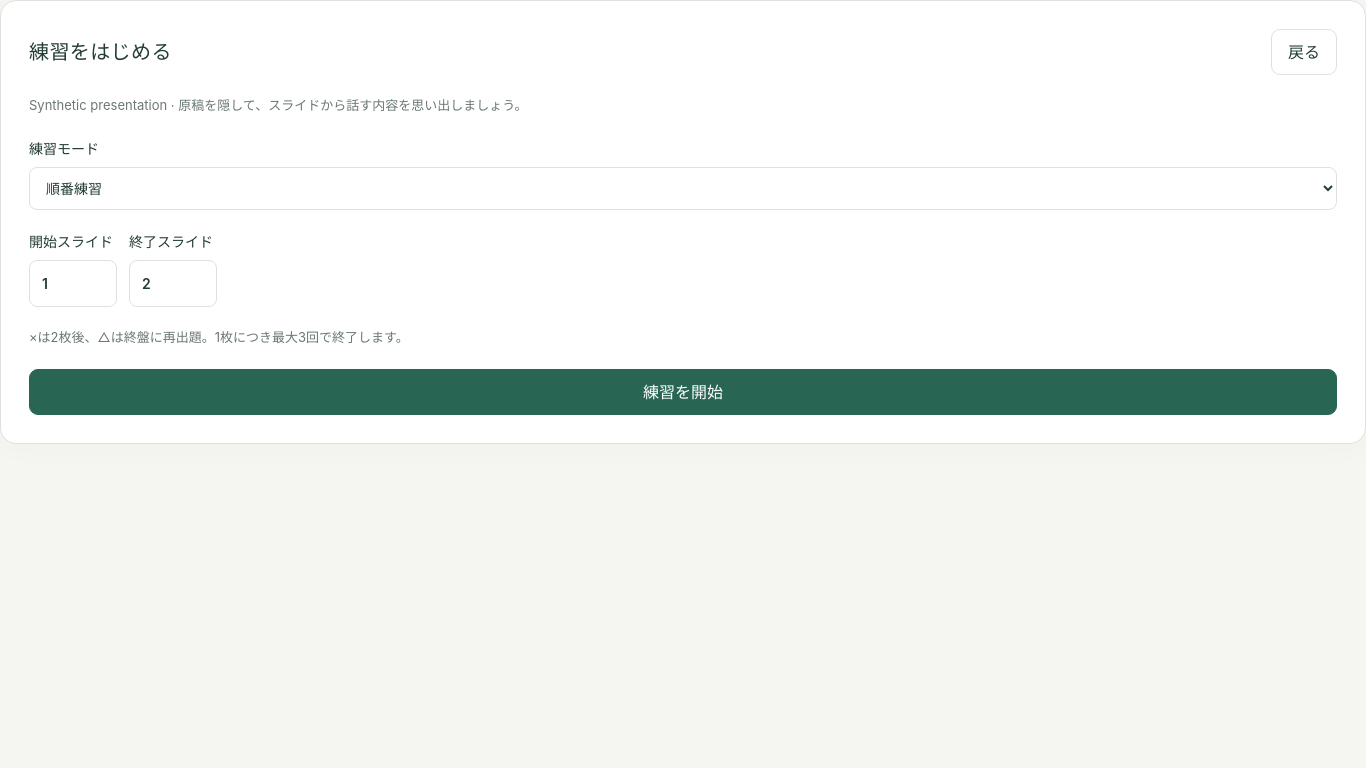
Test: practice screen › moves to the next or previous slide without a confirmation dialog while saving ungraded attempts
Click the button "練習を開始" at (683, 392), box [29, 368, 1337, 415]
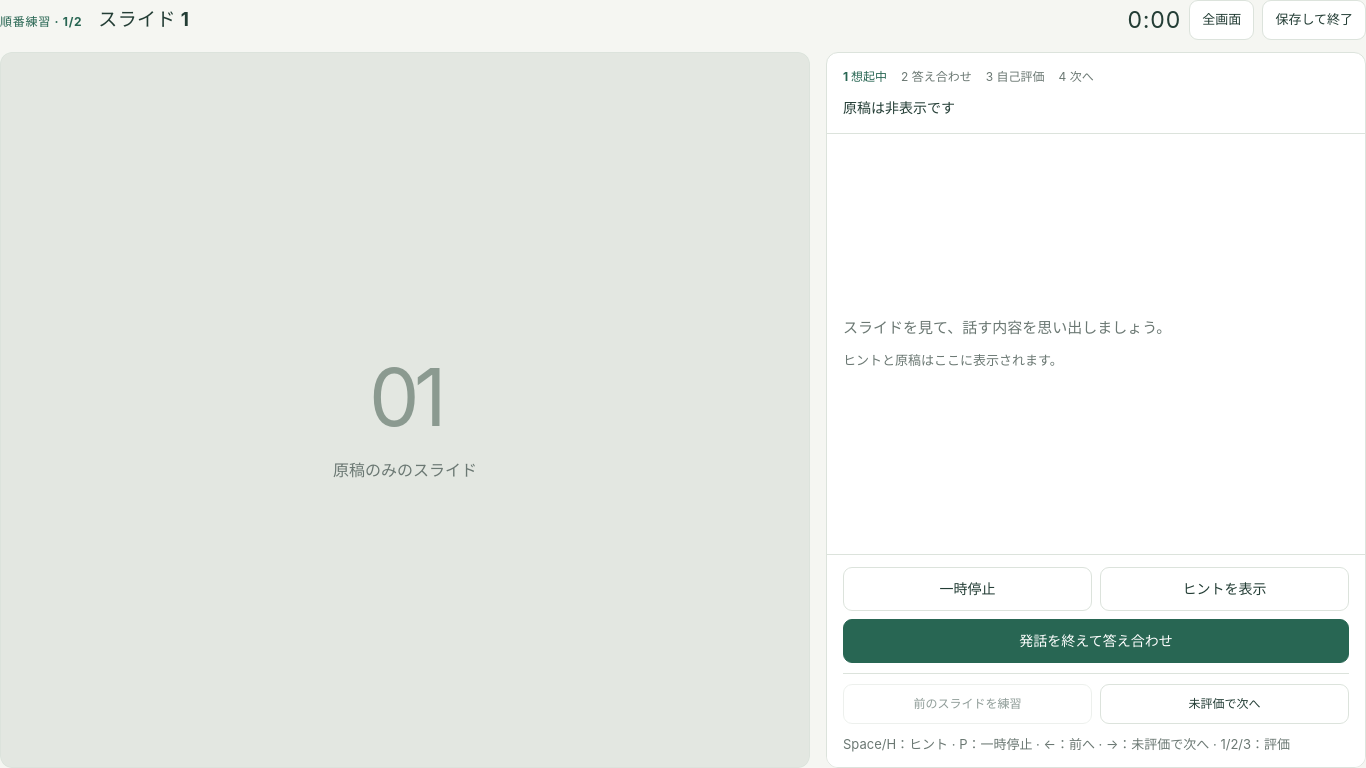
Expected: the heading "スライド 1" is shown, [98, 4, 189, 36]
Click the button "未評価で次へ" at (1224, 704), box [1100, 684, 1349, 724]
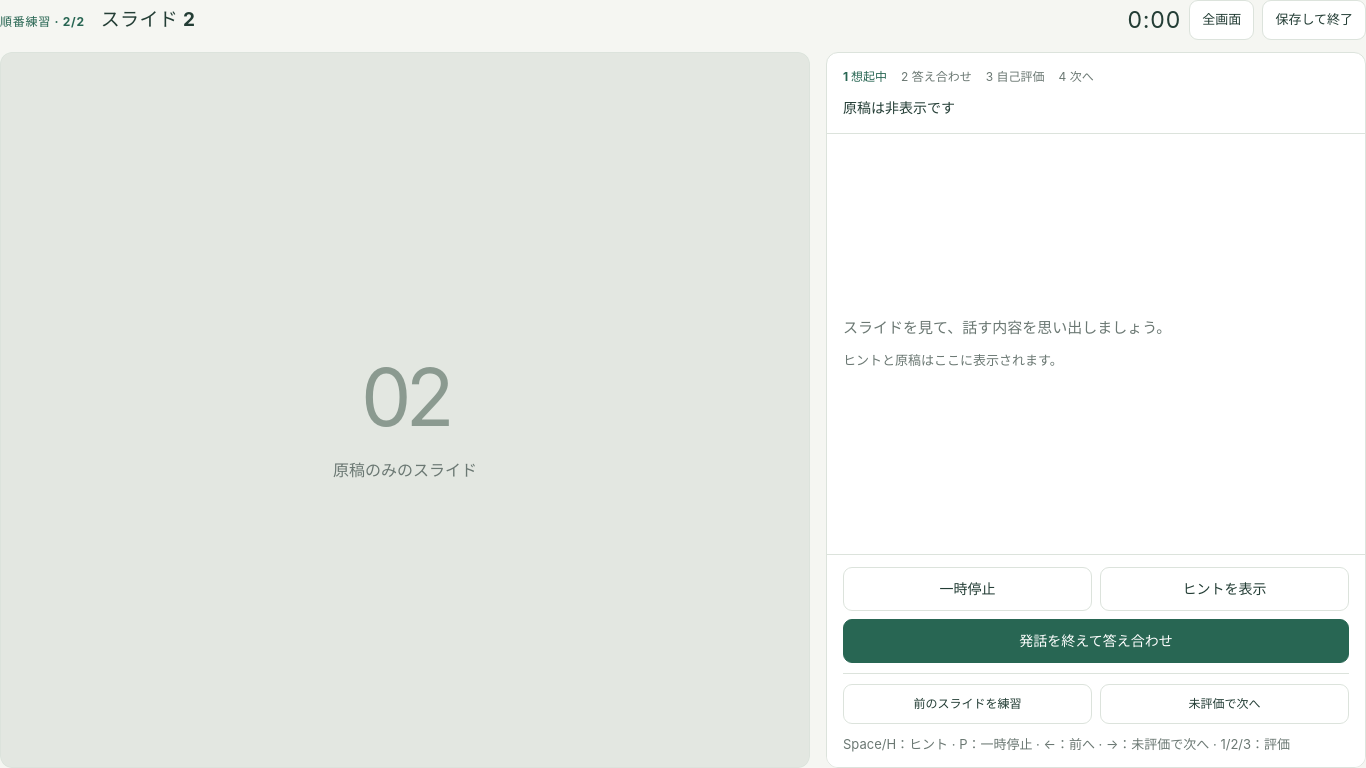
Expected: the heading with test id "practice-slide-number" reads "スライド 2", [101, 4, 196, 36]
Click the button "前のスライドを練習" at (968, 704), box [843, 684, 1092, 724]
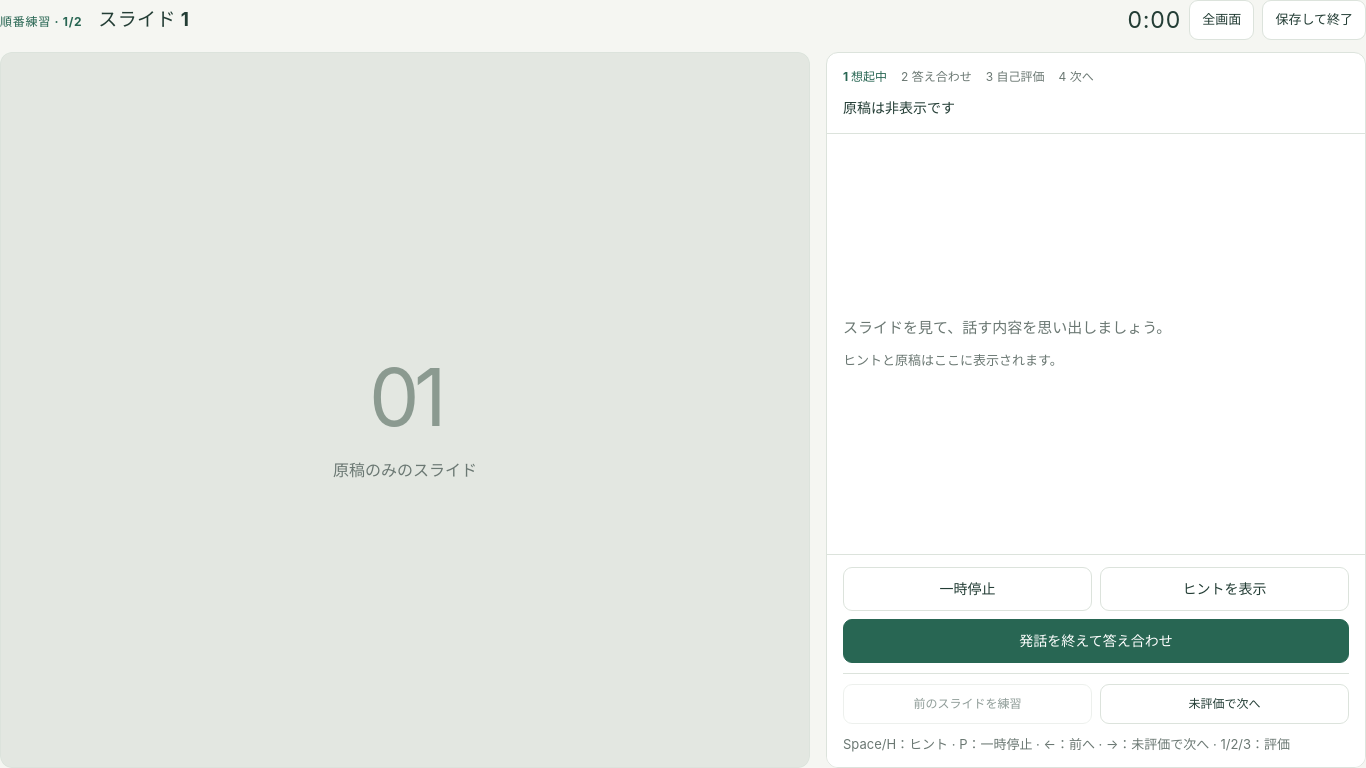
Expected: the heading with test id "practice-slide-number" reads "スライド 1", [98, 4, 189, 36]
